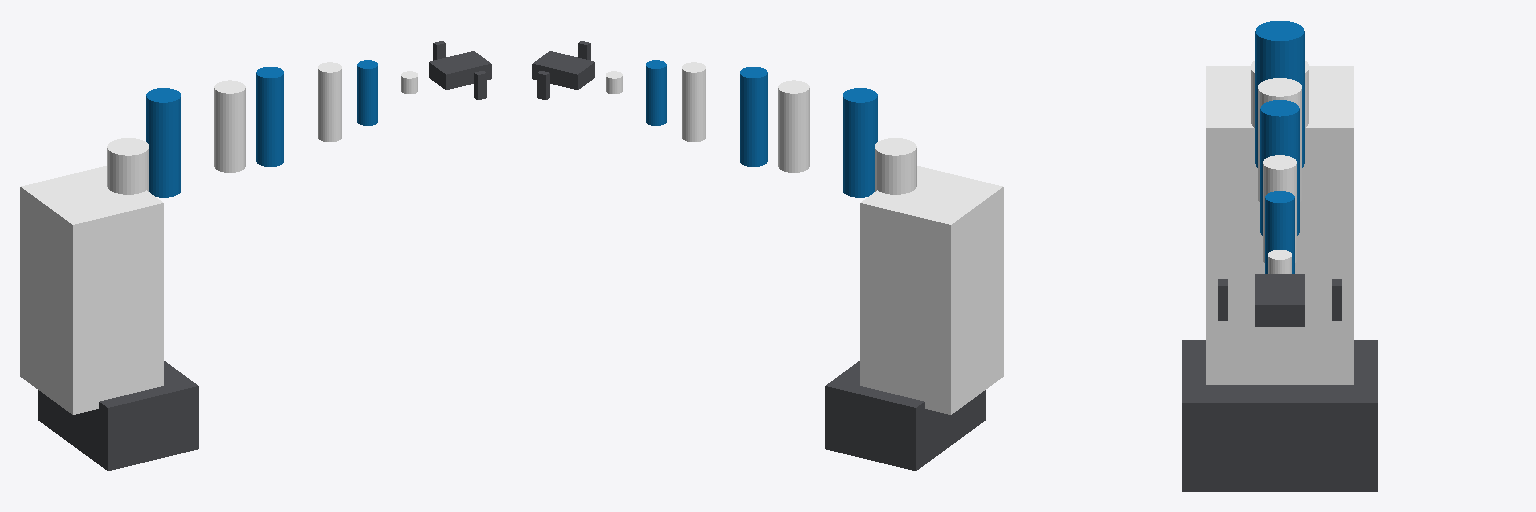
URDF robot description (fetch_7dof):
<?xml version="1.0"?>
<!--
  fetch_7dof.urdf: 7-DOF Fetch-style manipulator for the Gymnasium FetchPickAndPlace
  task. Uses primitive geometries for Gazebo compatibility (no external meshes required).

  Kinematic chain (7 arm DOF + 2 gripper DOF):
    base_link -[torso_lift_joint, FIXED]-> torso_lift_link
              -[shoulder_pan_joint]-> shoulder_pan_link
              -[shoulder_lift_joint]-> shoulder_lift_link
              -[upperarm_roll_joint]-> upperarm_roll_link
              -[elbow_flex_joint]-> elbow_flex_link
              -[forearm_roll_joint]-> forearm_roll_link
              -[wrist_flex_joint]-> wrist_flex_link
              -[wrist_roll_joint]-> wrist_roll_link
              -[gripper_axis, FIXED]-> gripper_link
              -[r/l_gripper_finger_joint, prismatic]-> r/l_gripper_finger_link
              -[grip_site_joint, FIXED]-> grip_site_link (MuJoCo robot0:grip site)
-->
<robot name="fetch_7dof">

  <!-- ==================== BASE ==================== -->
  <link name="base_link">
    <inertial>
      <origin rpy="0 0 0" xyz="-0.0036 0.0 0.0014" />
      <mass value="70.1294" />
      <inertia ixx="1.225" ixy="0.0099" ixz="0.0062" iyy="1.2853" iyz="-0.0034" izz="0.987" />
    </inertial>
    <visual>
      <origin rpy="0 0 0" xyz="0 0 0" />
      <geometry>
        <box size="0.3 0.4 0.2" />
      </geometry>
      <material name="dark_gray">
        <color rgba="0.356 0.361 0.376 1" />
      </material>
    </visual>
    <collision>
      <origin rpy="0 0 0" xyz="0 0 0" />
      <geometry>
        <box size="0.3 0.4 0.2" />
      </geometry>
    </collision>
  </link>

  <!-- ==================== TORSO (fixed) ==================== -->
  <joint name="torso_lift_joint" type="fixed">
    <origin rpy="0 0 0" xyz="-0.086875 0 0.37743" />
    <parent link="base_link" />
    <child link="torso_lift_link" />
  </joint>

  <link name="torso_lift_link">
    <inertial>
      <origin rpy="0 0 0" xyz="-0.0013 -0.0009 0.2935" />
      <mass value="10.7796" />
      <inertia ixx="0.3354" ixy="0.0" ixz="-0.0162" iyy="0.3354" iyz="-0.0006" izz="0.0954" />
    </inertial>
    <visual>
      <origin rpy="0 0 0" xyz="0 0 0" />
      <geometry>
        <box size="0.3 0.3 0.6" />
      </geometry>
      <material name="white">
        <color rgba="1 1 1 1" />
      </material>
    </visual>
    <collision>
      <origin rpy="0 0 0" xyz="0 0 0" />
      <geometry>
        <box size="0.3 0.3 0.6" />
      </geometry>
    </collision>
  </link>

  <!-- ==================== ARM JOINT 1: shoulder pan (z) ==================== -->
  <joint name="shoulder_pan_joint" type="revolute">
    <origin rpy="0 0 0" xyz="0.119525 0 0.34858" />
    <parent link="torso_lift_link" />
    <child link="shoulder_pan_link" />
    <axis xyz="0 0 1" />
    <limit effort="33.82" lower="-1.6056" upper="1.6056" velocity="1.256" />
    <dynamics damping="1.0" />
  </joint>

  <link name="shoulder_pan_link">
    <inertial>
      <origin rpy="0 0 0" xyz="0.0927 -0.0056 0.0564" />
      <mass value="2.5587" />
      <inertia ixx="0.0043" ixy="-0.0001" ixz="0.001" iyy="0.0087" iyz="-0.0001" izz="0.0087" />
    </inertial>
    <visual>
      <origin rpy="0 0 0" xyz="0 0 0" />
      <geometry>
        <cylinder radius="0.06" length="0.15" />
      </geometry>
      <material name="white">
        <color rgba="1 1 1 1" />
      </material>
    </visual>
    <collision>
      <origin rpy="0 0 0" xyz="0 0 0" />
      <geometry>
        <cylinder radius="0.06" length="0.15" />
      </geometry>
    </collision>
  </link>

  <!-- ==================== ARM JOINT 2: shoulder lift (y) ==================== -->
  <joint name="shoulder_lift_joint" type="revolute">
    <origin rpy="0 0 0" xyz="0.117 0 0.06" />
    <parent link="shoulder_pan_link" />
    <child link="shoulder_lift_link" />
    <axis xyz="0 1 0" />
    <limit effort="131.76" lower="-1.221" upper="1.518" velocity="1.454" />
    <dynamics damping="1.0" />
  </joint>

  <link name="shoulder_lift_link">
    <inertial>
      <origin rpy="0 0 0" xyz="0.1432 0.0072 -0.0001" />
      <mass value="2.6615" />
      <inertia ixx="0.0028" ixy="-0.0021" ixz="-0.0" iyy="0.0111" iyz="-0.0" izz="0.0112" />
    </inertial>
    <visual>
      <origin rpy="0 0 0" xyz="0 0 0" />
      <geometry>
        <cylinder radius="0.05" length="0.3" />
      </geometry>
      <material name="blue">
        <color rgba="0.086 0.506 0.767 1" />
      </material>
    </visual>
    <collision>
      <origin rpy="0 0 0" xyz="0 0 0" />
      <geometry>
        <cylinder radius="0.05" length="0.3" />
      </geometry>
    </collision>
  </link>

  <!-- ==================== ARM JOINT 3: upper arm roll (x) ==================== -->
  <joint name="upperarm_roll_joint" type="continuous">
    <origin rpy="0 0 0" xyz="0.219 0 0" />
    <parent link="shoulder_lift_link" />
    <child link="upperarm_roll_link" />
    <axis xyz="1 0 0" />
    <limit effort="76.94" velocity="1.571" />
    <dynamics damping="5.0" />
  </joint>

  <link name="upperarm_roll_link">
    <inertial>
      <origin rpy="0 0 0" xyz="0.1165 0.0014 0.0000" />
      <mass value="2.3311" />
      <inertia ixx="0.0019" ixy="-0.0001" ixz="0.0" iyy="0.0045" iyz="0.0" izz="0.0047" />
    </inertial>
    <visual>
      <origin rpy="0 0 0" xyz="0 0 0" />
      <geometry>
        <cylinder radius="0.045" length="0.25" />
      </geometry>
      <material name="white">
        <color rgba="1 1 1 1" />
      </material>
    </visual>
    <collision>
      <origin rpy="0 0 0" xyz="0 0 0" />
      <geometry>
        <cylinder radius="0.045" length="0.25" />
      </geometry>
    </collision>
  </link>

  <!-- ==================== ARM JOINT 4: elbow flex (y) ==================== -->
  <joint name="elbow_flex_joint" type="revolute">
    <origin rpy="0 0 0" xyz="0.133 0 0" />
    <parent link="upperarm_roll_link" />
    <child link="elbow_flex_link" />
    <axis xyz="0 1 0" />
    <limit effort="66.18" lower="-2.251" upper="2.251" velocity="1.521" />
    <dynamics damping="1.0" />
  </joint>

  <link name="elbow_flex_link">
    <inertial>
      <origin rpy="0 0 0" xyz="0.1279 0.0073 0.0000" />
      <mass value="2.1299" />
      <inertia ixx="0.0024" ixy="-0.0016" ixz="0.0" iyy="0.0082" iyz="-0.0" izz="0.0084" />
    </inertial>
    <visual>
      <origin rpy="0 0 0" xyz="0 0 0" />
      <geometry>
        <cylinder radius="0.04" length="0.28" />
      </geometry>
      <material name="blue">
        <color rgba="0.086 0.506 0.767 1" />
      </material>
    </visual>
    <collision>
      <origin rpy="0 0 0" xyz="0 0 0" />
      <geometry>
        <cylinder radius="0.04" length="0.28" />
      </geometry>
    </collision>
  </link>

  <!-- ==================== ARM JOINT 5: forearm roll (x) ==================== -->
  <joint name="forearm_roll_joint" type="continuous">
    <origin rpy="0 0 0" xyz="0.197 0 0" />
    <parent link="elbow_flex_link" />
    <child link="forearm_roll_link" />
    <axis xyz="1 0 0" />
    <limit effort="29.35" velocity="1.571" />
    <dynamics damping="5.0" />
  </joint>

  <link name="forearm_roll_link">
    <inertial>
      <origin rpy="0 0 0" xyz="0.1097 -0.0266 0.0000" />
      <mass value="1.6563" />
      <inertia ixx="0.0016" ixy="-0.0003" ixz="0.0" iyy="0.003" iyz="-0.0" izz="0.0035" />
    </inertial>
    <visual>
      <origin rpy="0 0 0" xyz="0 0 0" />
      <geometry>
        <cylinder radius="0.035" length="0.22" />
      </geometry>
      <material name="white">
        <color rgba="1 1 1 1" />
      </material>
    </visual>
    <collision>
      <origin rpy="0 0 0" xyz="0 0 0" />
      <geometry>
        <cylinder radius="0.035" length="0.22" />
      </geometry>
    </collision>
  </link>

  <!-- ==================== ARM JOINT 6: wrist flex (y) ==================== -->
  <joint name="wrist_flex_joint" type="revolute">
    <origin rpy="0 0 0" xyz="0.1245 0 0" />
    <parent link="forearm_roll_link" />
    <child link="wrist_flex_link" />
    <axis xyz="0 1 0" />
    <limit effort="25.7" lower="-2.16" upper="2.16" velocity="2.268" />
    <dynamics damping="1.0" />
  </joint>

  <link name="wrist_flex_link">
    <inertial>
      <origin rpy="0 0 0" xyz="0.0882 0.0009 -0.0001" />
      <mass value="1.725" />
      <inertia ixx="0.0018" ixy="-0.0001" ixz="-0.0" iyy="0.0042" iyz="0.0" izz="0.0042" />
    </inertial>
    <visual>
      <origin rpy="0 0 0" xyz="0 0 0" />
      <geometry>
        <cylinder radius="0.03" length="0.18" />
      </geometry>
      <material name="blue">
        <color rgba="0.086 0.506 0.767 1" />
      </material>
    </visual>
    <collision>
      <origin rpy="0 0 0" xyz="0 0 0" />
      <geometry>
        <cylinder radius="0.03" length="0.18" />
      </geometry>
    </collision>
  </link>

  <!-- ==================== ARM JOINT 7: wrist roll (x) ==================== -->
  <joint name="wrist_roll_joint" type="continuous">
    <origin rpy="0 0 0" xyz="0.1385 0 0" />
    <parent link="wrist_flex_link" />
    <child link="wrist_roll_link" />
    <axis xyz="1 0 0" />
    <limit effort="7.36" velocity="2.268" />
    <dynamics damping="5.0" />
  </joint>

  <link name="wrist_roll_link">
    <inertial>
      <origin rpy="0 0 0" xyz="0.0095 0.0004 -0.0002" />
      <mass value="0.1354" />
      <inertia ixx="0.0001" ixy="0.0" ixz="0.0" iyy="0.0001" iyz="0.0" izz="0.0001" />
    </inertial>
    <visual>
      <origin rpy="0 0 0" xyz="0 0 0" />
      <geometry>
        <cylinder radius="0.025" length="0.05" />
      </geometry>
      <material name="white">
        <color rgba="1 1 1 1" />
      </material>
    </visual>
    <collision>
      <origin rpy="0 0 0" xyz="0 0 0" />
      <geometry>
        <cylinder radius="0.025" length="0.05" />
      </geometry>
    </collision>
  </link>

  <!-- ==================== GRIPPER ==================== -->
  <joint name="gripper_axis" type="fixed">
    <origin rpy="0 0 0" xyz="0.16645 0 0" />
    <parent link="wrist_roll_link" />
    <child link="gripper_link" />
    <axis xyz="0 1 0" />
  </joint>

  <link name="gripper_link">
    <inertial>
      <origin rpy="0 0 0" xyz="-0.0900 -0.0001 -0.0017" />
      <mass value="1.5175" />
      <inertia ixx="0.0013" ixy="-0.0" ixz="0.0" iyy="0.0019" iyz="-0.0" izz="0.0024" />
    </inertial>
    <visual>
      <origin rpy="0 0 0" xyz="0 0 0" />
      <geometry>
        <box size="0.15 0.1 0.05" />
      </geometry>
      <material name="dark_gray">
        <color rgba="0.356 0.361 0.376 1" />
      </material>
    </visual>
    <collision>
      <origin rpy="0 0 0" xyz="0 0 0" />
      <geometry>
        <box size="0.15 0.1 0.05" />
      </geometry>
    </collision>
  </link>

  <joint name="r_gripper_finger_joint" type="prismatic">
    <origin rpy="0 0 0" xyz="0 0.015425 0" />
    <parent link="gripper_link" />
    <child link="r_gripper_finger_link" />
    <axis xyz="0 1 0" />
    <limit effort="60" lower="0.0" upper="0.05" velocity="0.05" />
    <dynamics damping="100.0" />
  </joint>

  <link name="r_gripper_finger_link">
    <inertial>
      <origin rpy="0 0 0" xyz="-0.01 0 0" />
      <mass value="0.0798" />
      <inertia ixx="1e-05" ixy="0" ixz="0" iyy="1e-05" iyz="0" izz="1e-05" />
    </inertial>
    <visual>
      <origin rpy="0 0 0" xyz="0 0.101425 0" />
      <geometry>
        <box size="0.03 0.02 0.08" />
      </geometry>
      <material name="dark_gray">
        <color rgba="0.356 0.361 0.376 1" />
      </material>
    </visual>
    <collision>
      <origin rpy="0 0 0" xyz="0 0.101425 0" />
      <geometry>
        <box size="0.03 0.02 0.08" />
      </geometry>
    </collision>
  </link>

  <joint name="l_gripper_finger_joint" type="prismatic">
    <origin rpy="0 0 0" xyz="0 -0.015425 0" />
    <parent link="gripper_link" />
    <child link="l_gripper_finger_link" />
    <axis xyz="0 -1 0" />
    <limit effort="60" lower="0.0" upper="0.05" velocity="0.05" />
    <dynamics damping="100.0" />
  </joint>

  <link name="l_gripper_finger_link">
    <inertial>
      <origin rpy="0 0 0" xyz="-0.01 0 0" />
      <mass value="0.0798" />
      <inertia ixx="1e-05" ixy="0" ixz="0" iyy="1e-05" iyz="0" izz="1e-05" />
    </inertial>
    <visual>
      <origin rpy="0 0 0" xyz="0 -0.101425 0" />
      <geometry>
        <box size="0.03 0.02 0.08" />
      </geometry>
      <material name="dark_gray">
        <color rgba="0.356 0.361 0.376 1" />
      </material>
    </visual>
    <collision>
      <origin rpy="0 0 0" xyz="0 -0.101425 0" />
      <geometry>
        <box size="0.03 0.02 0.08" />
      </geometry>
    </collision>
  </link>

  <!-- ==================== GRIP SITE (end-effector frame) ==================== -->
  <joint name="grip_site_joint" type="fixed">
    <origin rpy="0 0 0" xyz="0.02 0 0" />
    <parent link="gripper_link" />
    <child link="grip_site_link" />
  </joint>

  <link name="grip_site_link">
    <inertial>
      <origin rpy="0 0 0" xyz="0 0 0" />
      <mass value="0.001" />
      <inertia ixx="1e-09" ixy="0.0" ixz="0.0" iyy="1e-09" iyz="0.0" izz="1e-09" />
    </inertial>
    <visual>
      <origin rpy="0 0 0" xyz="0 0 0" />
      <geometry>
        <sphere radius="0.005" />
      </geometry>
      <material name="grip_site_green">
        <color rgba="0 1 0 0.5" />
      </material>
    </visual>
  </link>

  <!-- ==================== GAZEBO SETTINGS ==================== -->
  <!-- Set physics properties for the robot links. -->
  <gazebo reference="base_link">
    <mu1>1.0</mu1>
    <mu2>1.0</mu2>
    <material>Gazebo/DarkGray</material>
  </gazebo>
  <gazebo reference="torso_lift_link">
    <mu1>1.0</mu1>
    <mu2>1.0</mu2>
    <material>Gazebo/White</material>
  </gazebo>
  <gazebo reference="shoulder_pan_link">
    <mu1>1.0</mu1>
    <mu2>1.0</mu2>
    <material>Gazebo/White</material>
  </gazebo>
  <gazebo reference="shoulder_lift_link">
    <mu1>1.0</mu1>
    <mu2>1.0</mu2>
    <material>Gazebo/Blue</material>
  </gazebo>
  <gazebo reference="upperarm_roll_link">
    <mu1>1.0</mu1>
    <mu2>1.0</mu2>
    <material>Gazebo/White</material>
  </gazebo>
  <gazebo reference="elbow_flex_link">
    <mu1>1.0</mu1>
    <mu2>1.0</mu2>
    <material>Gazebo/Blue</material>
  </gazebo>
  <gazebo reference="forearm_roll_link">
    <mu1>1.0</mu1>
    <mu2>1.0</mu2>
    <material>Gazebo/White</material>
  </gazebo>
  <gazebo reference="wrist_flex_link">
    <mu1>1.0</mu1>
    <mu2>1.0</mu2>
    <material>Gazebo/Blue</material>
  </gazebo>
  <gazebo reference="wrist_roll_link">
    <mu1>1.0</mu1>
    <mu2>1.0</mu2>
    <material>Gazebo/White</material>
  </gazebo>
  <gazebo reference="gripper_link">
    <mu1>1.0</mu1>
    <mu2>1.0</mu2>
    <material>Gazebo/DarkGray</material>
  </gazebo>
  <gazebo reference="r_gripper_finger_link">
    <mu1>1.0</mu1>
    <mu2>1.0</mu2>
    <material>Gazebo/DarkGray</material>
  </gazebo>
  <gazebo reference="l_gripper_finger_link">
    <mu1>1.0</mu1>
    <mu2>1.0</mu2>
    <material>Gazebo/DarkGray</material>
  </gazebo>

  <!-- ==================== GAZEBO / ros2_control ==================== -->
  <!-- Load the gz-sim JointStatePublisher system so joint states are
       published on the gz topic /model/<name>/joint_state.
       The ros_gz_bridge in the launch file translates this to the ROS
       /joint_states topic (sensor_msgs/JointState). -->
  <gazebo>
    <plugin name="gz::sim::systems::JointStatePublisher" filename="libgz-sim8-joint-state-publisher-system.so" />
  </gazebo>

  <!-- ros2_control configuration. Used by ros2_control_node when a working
       hardware interface is available (e.g., real robot hardware driver or a
       compatible simulation plugin). In pure gz-sim the JointStatePublisher
       above handles joint state publishing; the controller_manager config
       below documents the intended 25 Hz control loop for RL training. -->
  <ros2_control name="fetch_7dof" type="system">
    <hardware>
      <plugin>gazebo_ros2_control/GazeboRos2ControlSystem</plugin>
    </hardware>
    <!-- Arm joints: position command + position/velocity state. -->
    <joint name="shoulder_pan_joint">
      <command_interface name="position">
        <param name="min">-1.6056</param>
        <param name="max">1.6056</param>
      </command_interface>
      <state_interface name="position" />
      <state_interface name="velocity" />
    </joint>
    <joint name="shoulder_lift_joint">
      <command_interface name="position">
        <param name="min">-1.221</param>
        <param name="max">1.518</param>
      </command_interface>
      <state_interface name="position" />
      <state_interface name="velocity" />
    </joint>
    <joint name="upperarm_roll_joint">
      <command_interface name="position" />
      <state_interface name="position" />
      <state_interface name="velocity" />
    </joint>
    <joint name="elbow_flex_joint">
      <command_interface name="position">
        <param name="min">-2.251</param>
        <param name="max">2.251</param>
      </command_interface>
      <state_interface name="position" />
      <state_interface name="velocity" />
    </joint>
    <joint name="forearm_roll_joint">
      <command_interface name="position" />
      <state_interface name="position" />
      <state_interface name="velocity" />
    </joint>
    <joint name="wrist_flex_joint">
      <command_interface name="position">
        <param name="min">-2.16</param>
        <param name="max">2.16</param>
      </command_interface>
      <state_interface name="position" />
      <state_interface name="velocity" />
    </joint>
    <joint name="wrist_roll_joint">
      <command_interface name="position" />
      <state_interface name="position" />
      <state_interface name="velocity" />
    </joint>
    <!-- Gripper fingers. -->
    <joint name="r_gripper_finger_joint">
      <command_interface name="position">
        <param name="min">0.0</param>
        <param name="max">0.05</param>
      </command_interface>
      <state_interface name="position" />
      <state_interface name="velocity" />
    </joint>
    <joint name="l_gripper_finger_joint">
      <command_interface name="position">
        <param name="min">0.0</param>
        <param name="max">0.05</param>
      </command_interface>
      <state_interface name="position" />
      <state_interface name="velocity" />
    </joint>
  </ros2_control>

</robot>

--- What the picture shows (computed from the rendered views, not written in the file) ---
The picture shows the robot from 3 angles, left to right: view 1: azimuth 30°, elevation 25°; view 2: azimuth 150°, elevation 25°; view 3: azimuth 270°, elevation 25°; orthographic projection.
Model fetch_7dof with 13 links and 12 joints (4 revolute, 3 continuous, 2 prismatic, 3 fixed), rooted at base_link, posed every joint at zero.
Visible links, largest first — view 1: torso_lift_link, base_link, shoulder_lift_link, upperarm_roll_link, elbow_flex_link, shoulder_pan_link, forearm_roll_link, gripper_link, wrist_flex_link; view 2: torso_lift_link, base_link, shoulder_lift_link, upperarm_roll_link, elbow_flex_link, shoulder_pan_link, forearm_roll_link, gripper_link, wrist_flex_link; view 3: torso_lift_link, base_link, shoulder_lift_link, elbow_flex_link, gripper_link, wrist_flex_link, forearm_roll_link, upperarm_roll_link, wrist_roll_link.
Boxes of the visible links, x1,y1,x2,y2 form: torso_lift_link: (20, 166, 163, 414); base_link: (38, 361, 198, 470); shoulder_lift_link: (146, 88, 180, 197); upperarm_roll_link: (214, 80, 245, 172); elbow_flex_link: (256, 67, 283, 166); shoulder_pan_link: (107, 138, 148, 194); forearm_roll_link: (318, 62, 341, 141); gripper_link: (429, 51, 491, 89); wrist_flex_link: (357, 60, 377, 125); torso_lift_link: (860, 166, 1003, 414); base_link: (825, 361, 985, 470); shoulder_lift_link: (843, 88, 877, 197); upperarm_roll_link: (778, 80, 809, 172); elbow_flex_link: (740, 67, 767, 166); shoulder_pan_link: (875, 138, 916, 194); forearm_roll_link: (682, 62, 705, 141); gripper_link: (532, 51, 594, 89); wrist_flex_link: (646, 60, 666, 125); torso_lift_link: (1206, 66, 1353, 384); base_link: (1182, 340, 1377, 491); shoulder_lift_link: (1255, 21, 1304, 167); elbow_flex_link: (1260, 100, 1299, 235); gripper_link: (1255, 274, 1304, 326); wrist_flex_link: (1265, 191, 1294, 273); forearm_roll_link: (1263, 155, 1296, 262); upperarm_roll_link: (1258, 78, 1301, 201); wrist_roll_link: (1268, 250, 1291, 273).
Bounding box of the posed robot: 1.44 × 0.4 × 1.04 m (x, y, z).
Geometry: primitives only (box / cylinder / sphere), no mesh files.
